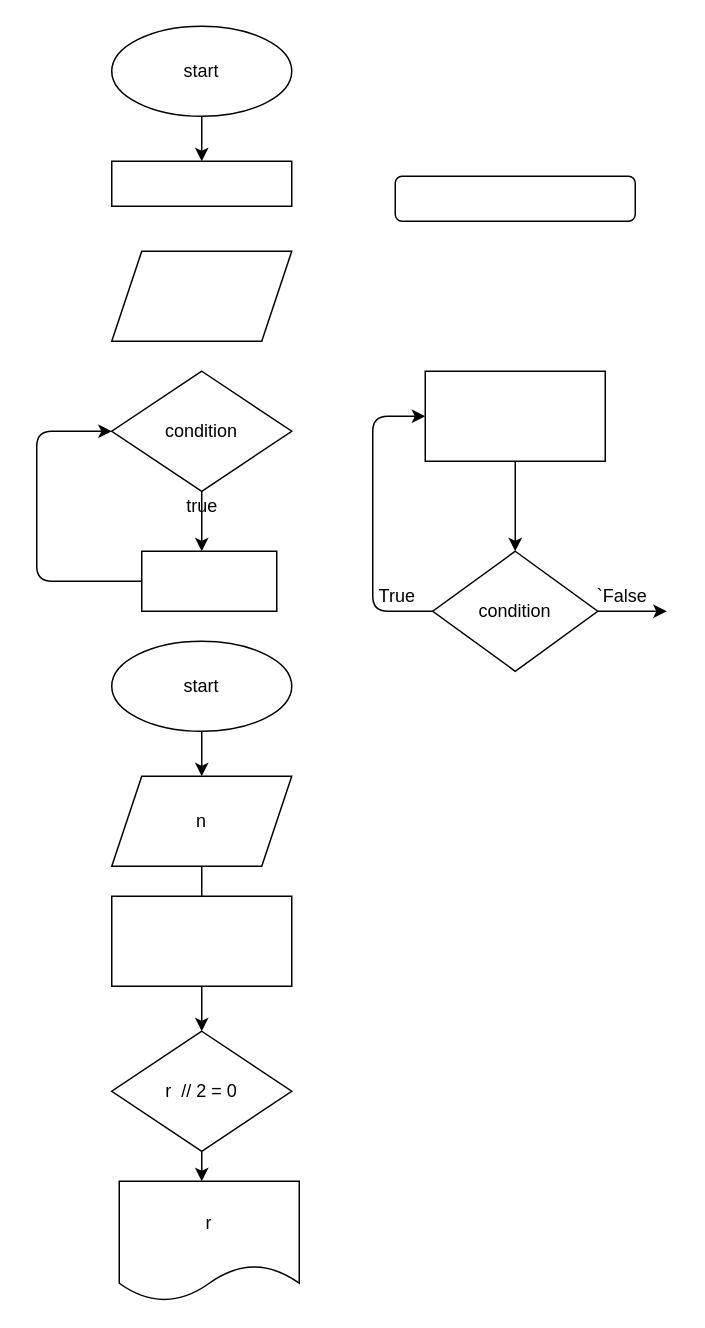
This 705x1328 diagram has some shape labels left out. Each missing label, with the centre of its shape:
"count =" belongs at [201,183].
"count = 1, 10, 1" belongs at [514,198].
"r = random(1,n )" belongs at [201,940].
"Ввод count" belongs at [201,295].
